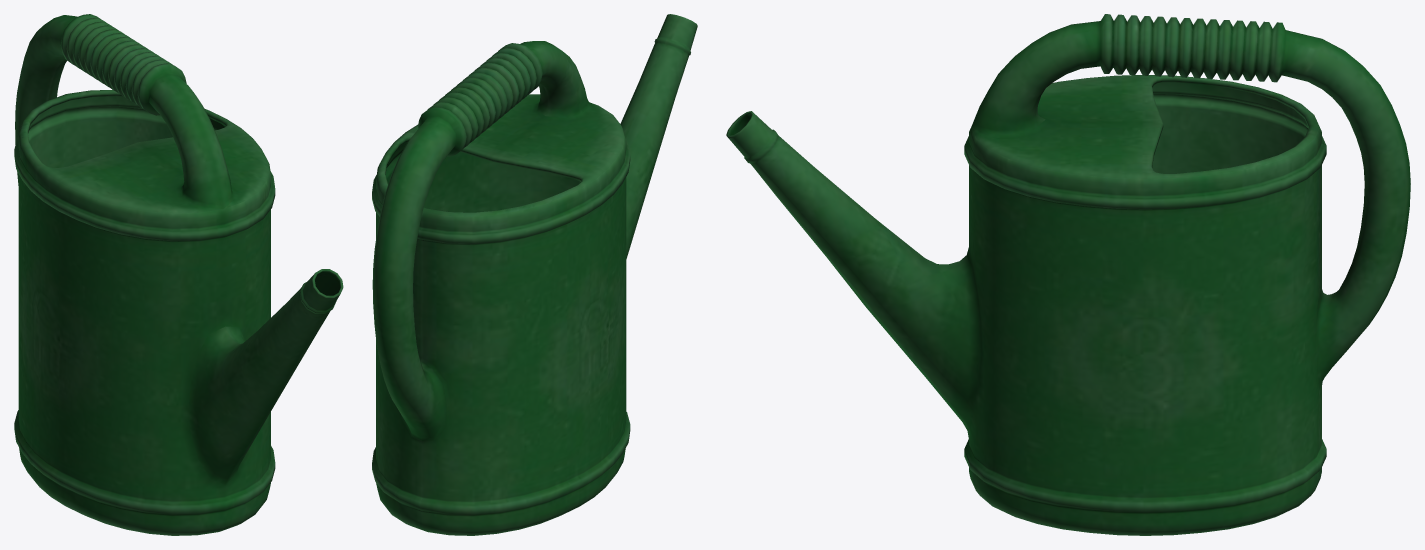
3 renders of one model, left to right at view 1: azimuth 30°, elevation 25°; view 2: azimuth 150°, elevation 25°; view 3: azimuth 270°, elevation 25°, orthographic. The views are drawn at different scales.
Parts seen in each view (by area): view 1: watering_can_lp_watering_can_0; view 2: watering_can_lp_watering_can_0; view 3: watering_can_lp_watering_can_0.
Part boxes in pixels (x1,y1,x2,y2): watering_can_lp_watering_can_0: [14, 14, 343, 535]; watering_can_lp_watering_can_0: [372, 14, 697, 535]; watering_can_lp_watering_can_0: [726, 14, 1410, 535].
Bounding box in the file's own units: 0.1917 × 0.3842 × 0.505.
Materials: 1 (1 with a texture image).
